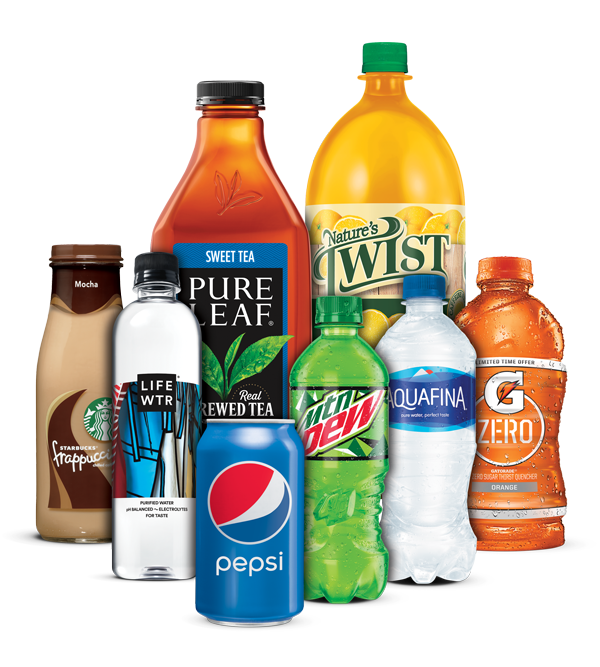pepsi: (204, 461, 285, 542), (208, 461, 285, 542)
